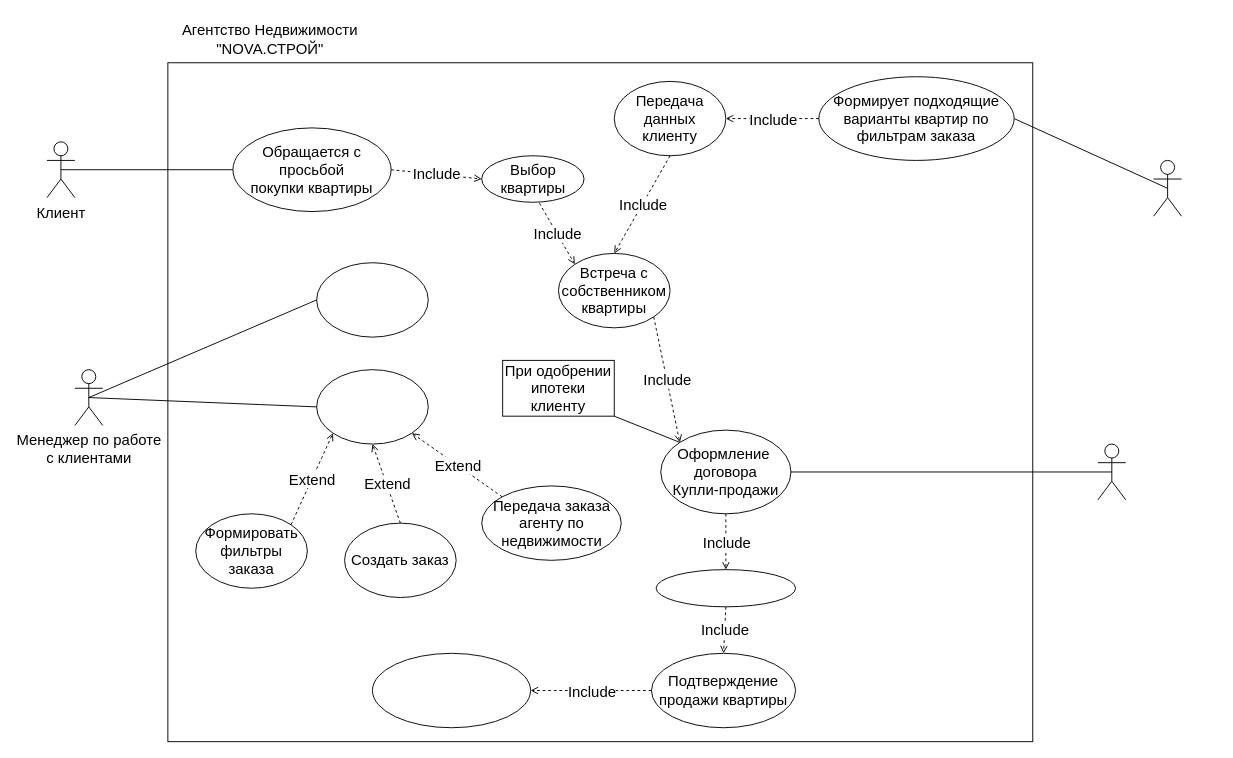
Image size: 1233x758. Some labels were removed from this diagram. The shapes that lost their labels are listed below. From the top down, each one's box as (x1, y1, x2, y2) in pixels, then its label:
(1153, 159, 1182, 216): Агент по недвижимости
(316, 262, 428, 337): Консультация клиента
(316, 369, 428, 444): Работа с заказом
(1097, 443, 1126, 500): Собственник квартиры
(655, 569, 796, 607): Продажа квартиры
(372, 652, 531, 728): Передача ключей покупателю (Клиенту)
